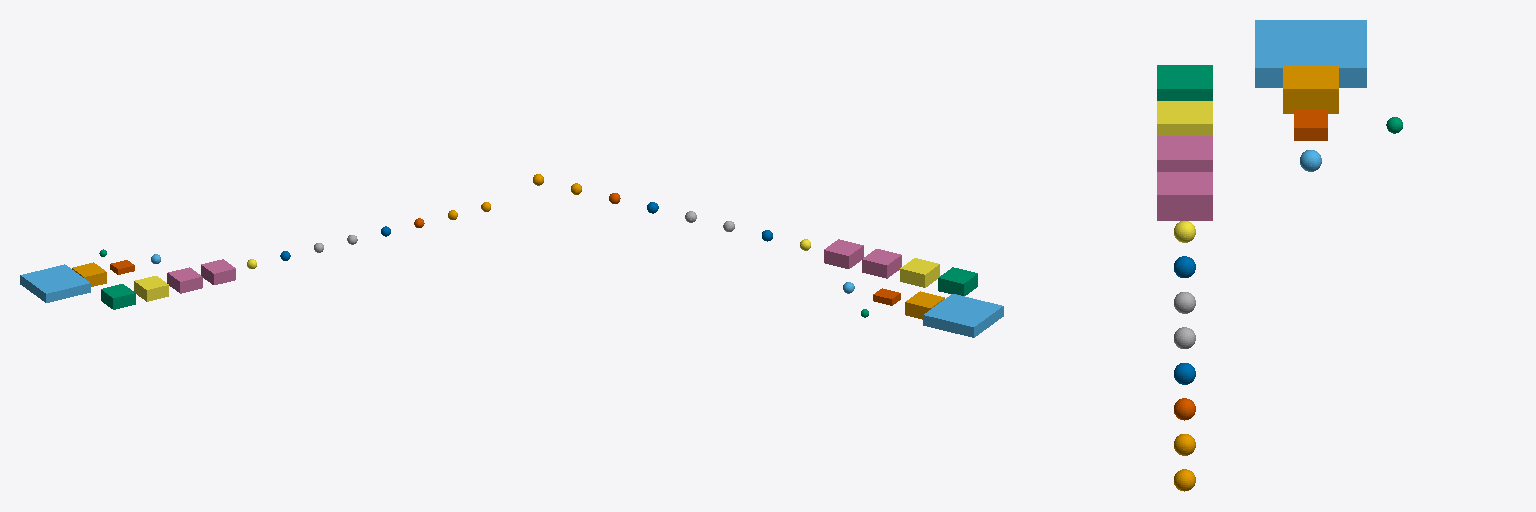
robot.urdf — quadrotor_aerial_vehicle:
<?xml version="1.0" ?>
<robot name="quadrotor_aerial_vehicle">
  <link name="battery">
    <visual>
      <geometry>
        <box size="0.04 0.04 0.02"/>
      </geometry>
    </visual>
  </link>
  <link name="camera">
    <visual>
      <geometry>
        <sphere radius="0.008"/>
      </geometry>
    </visual>
  </link>
  <link name="first_arm">
    <visual>
      <geometry>
        <box size="0.04 0.04 0.02"/>
      </geometry>
    </visual>
  </link>
  <link name="first_motor">
    <visual>
      <geometry>
        <sphere radius="0.008"/>
      </geometry>
    </visual>
  </link>
  <link name="first_propeller">
    <visual>
      <geometry>
        <sphere radius="0.008"/>
      </geometry>
    </visual>
  </link>
  <link name="flight_controller">
    <visual>
      <geometry>
        <box size="0.03 0.024 0.01"/>
      </geometry>
    </visual>
  </link>
  <link name="fourth_arm">
    <visual>
      <geometry>
        <box size="0.04 0.04 0.02"/>
      </geometry>
    </visual>
  </link>
  <link name="fourth_motor">
    <visual>
      <geometry>
        <sphere radius="0.008"/>
      </geometry>
    </visual>
  </link>
  <link name="fourth_propeller">
    <visual>
      <geometry>
        <sphere radius="0.008"/>
      </geometry>
    </visual>
  </link>
  <link name="frame">
    <visual>
      <geometry>
        <box size="0.08 0.08 0.016"/>
      </geometry>
    </visual>
  </link>
  <link name="position_sensor">
    <visual>
      <geometry>
        <sphere radius="0.006"/>
      </geometry>
    </visual>
  </link>
  <link name="second_arm">
    <visual>
      <geometry>
        <box size="0.04 0.04 0.02"/>
      </geometry>
    </visual>
  </link>
  <link name="second_motor">
    <visual>
      <geometry>
        <sphere radius="0.008"/>
      </geometry>
    </visual>
  </link>
  <link name="second_propeller">
    <visual>
      <geometry>
        <sphere radius="0.008"/>
      </geometry>
    </visual>
  </link>
  <link name="third_arm">
    <visual>
      <geometry>
        <box size="0.04 0.04 0.02"/>
      </geometry>
    </visual>
  </link>
  <link name="third_motor">
    <visual>
      <geometry>
        <sphere radius="0.008"/>
      </geometry>
    </visual>
  </link>
  <link name="third_propeller">
    <visual>
      <geometry>
        <sphere radius="0.008"/>
      </geometry>
    </visual>
  </link>
  <joint name="_attach_flight_controller_to_position_sensor" type="fixed">
    <parent link="flight_controller"/>
    <child link="position_sensor"/>
    <origin xyz="0.0000 0.0600 0.0000" rpy="0 0 0"/>
  </joint>
  <joint name="_attach_frame_to_battery" type="fixed">
    <parent link="frame"/>
    <child link="battery"/>
    <origin xyz="0.0600 0.0000 0.0000" rpy="0 0 0"/>
  </joint>
  <joint name="_attach_frame_to_camera" type="fixed">
    <parent link="frame"/>
    <child link="camera"/>
    <origin xyz="0.1800 0.0000 0.0000" rpy="0 0 0"/>
  </joint>
  <joint name="_attach_frame_to_first_arm" type="fixed">
    <parent link="frame"/>
    <child link="first_arm"/>
    <origin xyz="0.0600 -0.0900 0.0000" rpy="0 0 0"/>
  </joint>
  <joint name="_attach_frame_to_first_motor" type="fixed">
    <parent link="frame"/>
    <child link="first_motor"/>
    <origin xyz="0.3000 -0.0900 0.0000" rpy="0 0 0"/>
  </joint>
  <joint name="_attach_frame_to_first_propeller" type="fixed">
    <parent link="frame"/>
    <child link="first_propeller"/>
    <origin xyz="0.5400 -0.0900 0.0000" rpy="0 0 0"/>
  </joint>
  <joint name="_attach_frame_to_flight_controller" type="fixed">
    <parent link="frame"/>
    <child link="flight_controller"/>
    <origin xyz="0.1200 0.0000 0.0000" rpy="0 0 0"/>
  </joint>
  <joint name="_attach_frame_to_fourth_arm" type="fixed">
    <parent link="frame"/>
    <child link="fourth_arm"/>
    <origin xyz="0.2400 -0.0900 0.0000" rpy="0 0 0"/>
  </joint>
  <joint name="_attach_frame_to_fourth_motor" type="fixed">
    <parent link="frame"/>
    <child link="fourth_motor"/>
    <origin xyz="0.4800 -0.0900 0.0000" rpy="0 0 0"/>
  </joint>
  <joint name="_attach_frame_to_fourth_propeller" type="fixed">
    <parent link="frame"/>
    <child link="fourth_propeller"/>
    <origin xyz="0.7200 -0.0900 0.0000" rpy="0 0 0"/>
  </joint>
  <joint name="_attach_frame_to_second_arm" type="fixed">
    <parent link="frame"/>
    <child link="second_arm"/>
    <origin xyz="0.1200 -0.0900 0.0000" rpy="0 0 0"/>
  </joint>
  <joint name="_attach_frame_to_second_motor" type="fixed">
    <parent link="frame"/>
    <child link="second_motor"/>
    <origin xyz="0.3600 -0.0900 0.0000" rpy="0 0 0"/>
  </joint>
  <joint name="_attach_frame_to_second_propeller" type="fixed">
    <parent link="frame"/>
    <child link="second_propeller"/>
    <origin xyz="0.6000 -0.0900 0.0000" rpy="0 0 0"/>
  </joint>
  <joint name="_attach_frame_to_third_arm" type="fixed">
    <parent link="frame"/>
    <child link="third_arm"/>
    <origin xyz="0.1800 -0.0900 0.0000" rpy="0 0 0"/>
  </joint>
  <joint name="_attach_frame_to_third_motor" type="fixed">
    <parent link="frame"/>
    <child link="third_motor"/>
    <origin xyz="0.4200 -0.0900 0.0000" rpy="0 0 0"/>
  </joint>
  <joint name="_attach_frame_to_third_propeller" type="fixed">
    <parent link="frame"/>
    <child link="third_propeller"/>
    <origin xyz="0.6600 -0.0900 0.0000" rpy="0 0 0"/>
  </joint>
</robot>

--- Facts derived from the render (not from the file) ---
Views: 3 orthographic renders of the robot side by side, from view 1: azimuth 30°, elevation 25°; view 2: azimuth 150°, elevation 25°; view 3: azimuth 270°, elevation 25°.
Model quadrotor_aerial_vehicle with 17 links and 16 joints (16 fixed), rooted at frame, posed every joint at zero.
Visible links, largest first — view 1: frame, third_arm, fourth_arm, first_arm, second_arm; view 2: frame, fourth_arm, second_arm, third_arm, first_arm, battery; view 3: frame, fourth_arm, battery, first_arm, third_arm, second_arm, flight_controller.
Boxes of the visible links, box(x1,y1,x2,y2) form: frame: box(20, 264, 90, 302); third_arm: box(167, 267, 202, 293); fourth_arm: box(201, 259, 235, 284); first_arm: box(101, 284, 135, 309); second_arm: box(134, 276, 168, 301); frame: box(923, 294, 1003, 337); fourth_arm: box(824, 239, 863, 268); second_arm: box(900, 258, 939, 287); third_arm: box(862, 249, 901, 278); first_arm: box(938, 267, 977, 295); battery: box(905, 291, 944, 319); frame: box(1255, 20, 1366, 87); fourth_arm: box(1157, 172, 1212, 220); battery: box(1283, 65, 1338, 113); first_arm: box(1157, 65, 1212, 100); third_arm: box(1157, 136, 1212, 171); second_arm: box(1157, 101, 1212, 135); flight_controller: box(1294, 110, 1327, 140).
Bounding box of the posed robot: 0.768 × 0.176 × 0.02 m (x, y, z).
Geometry: primitives only (box / cylinder / sphere), no mesh files.
